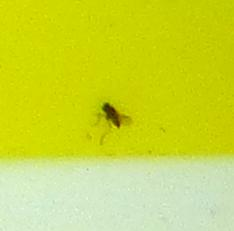Brachycera: (100, 100, 134, 131)
